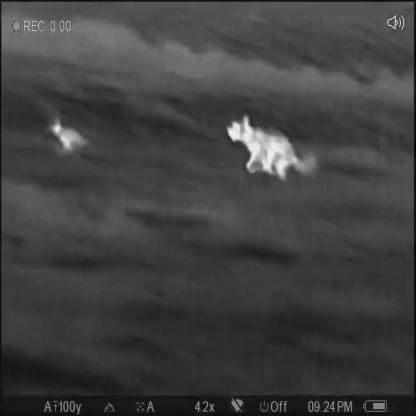rehkitze: (223, 112, 319, 185), (45, 116, 89, 156)
